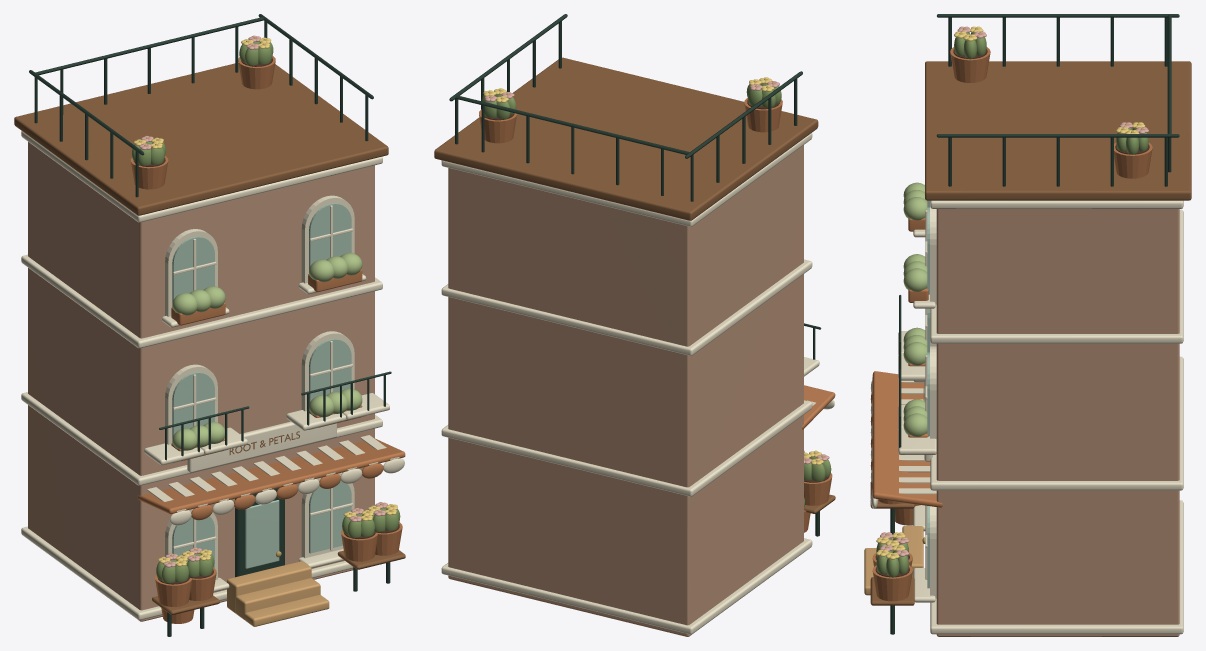
File: florist.glb
3 views of the same model, side by side, from view 1: azimuth 30°, elevation 25°; view 2: azimuth 150°, elevation 25°; view 3: azimuth 270°, elevation 25° (orthographic). The views are drawn at different scales.
Parts seen in each view (by area): view 1: Plaster house.001, Roof.001, Canvas awning.001, Stone cornice.006, Sign frame.001, Stone cornice.007, Stone cornice.005, Door pane.001, Stone cornice.004, Window glass.007, Window glass.010, Window glass.011 (+26 smaller); view 2: Plaster house.001, Roof.001, Stone cornice.004, Stone cornice.006, Stone cornice.005, Stone cornice.007, Terrace railing.005, Terracotta pot.006, Terracotta pot.005, Canvas awning.001, Terrace railing.003, Terracotta pot.008 (+1 smaller); view 3: Plaster house.001, Roof.001, Canvas awning.001, Stone cornice.004, Stone cornice.006, Stone cornice.005, Stone cornice.007, Terrace railing.004, Terrace railing.003, Terracotta pot.011, Terracotta pot.005, Terracotta pot.006 (+12 smaller).
Boxes of the visible parts, <box> form: Plaster house.001: <box>28,142,374,621</box>; Roof.001: <box>14,63,388,215</box>; Canvas awning.001: <box>137,438,405,514</box>; Stone cornice.006: <box>21,254,382,348</box>; Sign frame.001: <box>187,421,336,472</box>; Stone cornice.007: <box>21,131,382,222</box>; Stone cornice.005: <box>21,392,382,485</box>; Door pane.001: <box>245,500,279,568</box>; Stone cornice.004: <box>21,526,353,620</box>; Window glass.007: <box>309,480,351,553</box>; Window glass.010: <box>172,236,214,306</box>; Window glass.011: <box>309,203,351,273</box>; Plaster house.001: <box>448,145,803,636</box>; Roof.001: <box>434,57,818,220</box>; Stone cornice.004: <box>441,538,812,634</box>; Stone cornice.006: <box>441,259,812,355</box>; Stone cornice.005: <box>441,400,812,496</box>; Stone cornice.007: <box>441,133,812,226</box>; Terrace railing.005: <box>455,95,689,154</box>; Terracotta pot.006: <box>479,109,517,143</box>; Terracotta pot.005: <box>744,98,782,132</box>; Canvas awning.001: <box>802,385,835,429</box>; Terrace railing.003: <box>685,71,802,158</box>; Terracotta pot.008: <box>804,473,832,505</box>; Plaster house.001: <box>936,209,1179,636</box>; Roof.001: <box>925,61,1191,200</box>; Canvas awning.001: <box>872,371,942,507</box>; Stone cornice.004: <box>930,500,1183,634</box>; Stone cornice.006: <box>930,209,1183,343</box>; Stone cornice.005: <box>930,356,1183,490</box>; Stone cornice.007: <box>930,200,1183,208</box>; Terrace railing.004: <box>936,134,1179,137</box>; Terrace railing.003: <box>937,14,1179,17</box>; Terracotta pot.011: <box>872,565,912,601</box>; Terracotta pot.005: <box>950,47,990,82</box>; Terracotta pot.006: <box>1114,142,1152,178</box>.
Bounding box in the file's own units: 4.6 × 8.21 × 4.85.
